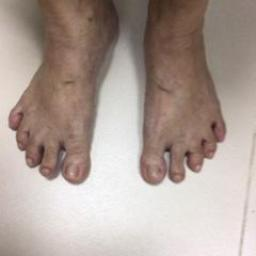Dorsal View -Both Feet-: (4, 2, 236, 189)
